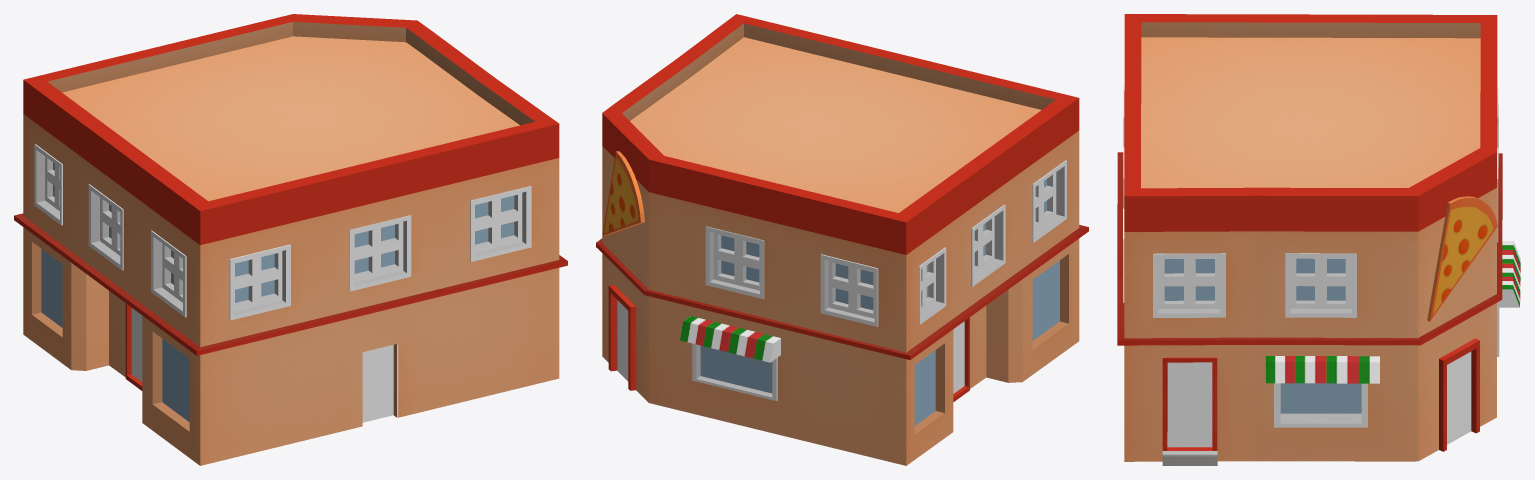
The model's file is Pizza_Store_UV_Color.fbx.
3 renders of one model, left to right at view 1: azimuth 30°, elevation 25°; view 2: azimuth 150°, elevation 25°; view 3: azimuth 270°, elevation 25°, orthographic. The views are drawn at different scales.
Parts seen in each view (by area): view 1: Pizza_Store_UV_Color; view 2: Pizza_Store_UV_Color; view 3: Pizza_Store_UV_Color.
Boxes of the visible parts, bbox=[...] form: Pizza_Store_UV_Color: bbox=[14, 14, 567, 465]; Pizza_Store_UV_Color: bbox=[596, 14, 1088, 465]; Pizza_Store_UV_Color: bbox=[1117, 14, 1520, 465].
Size of the model in its own units: 1521 by 968 by 1333.
